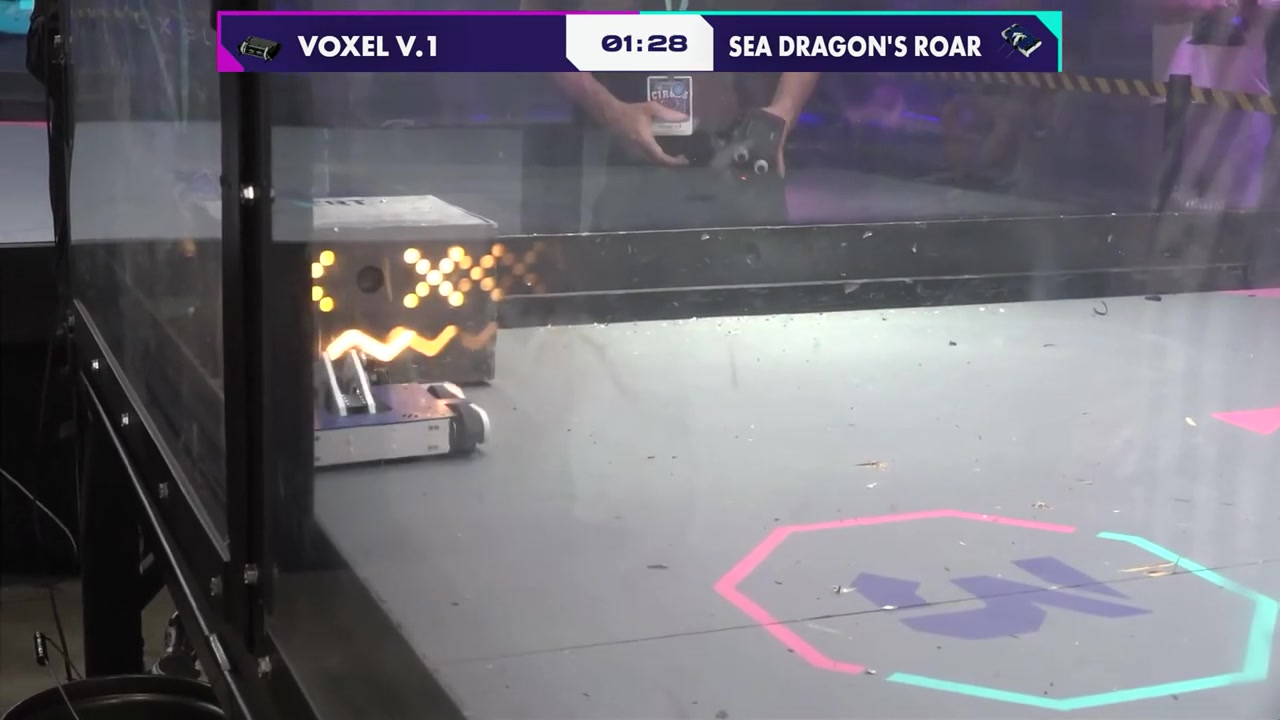combatbot: (316, 349, 492, 472)
housebot: (313, 187, 497, 384)
